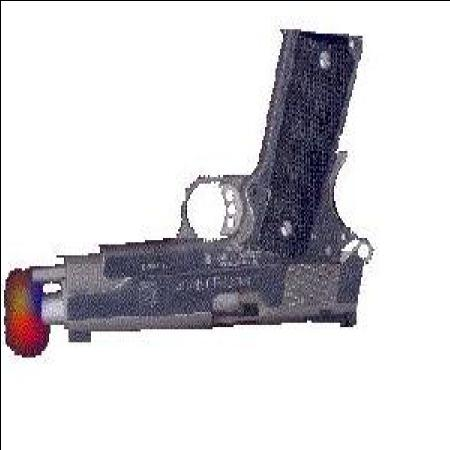Pistol: (28, 28, 372, 352)
